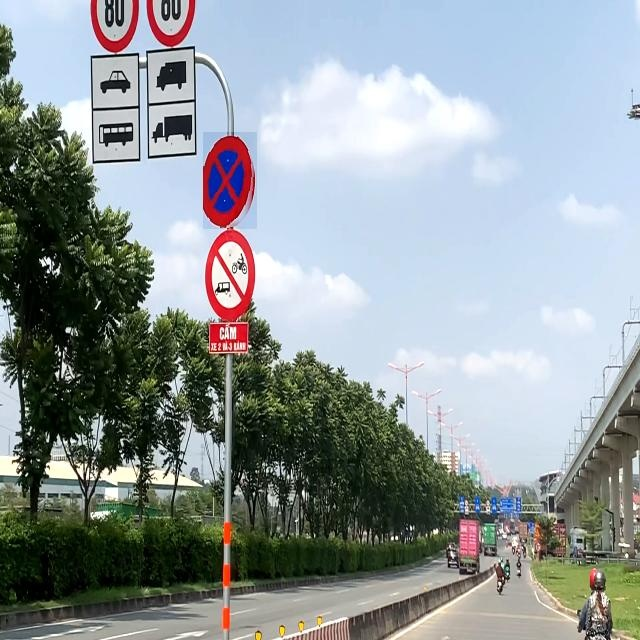bien_cam: (203, 132, 257, 229)
